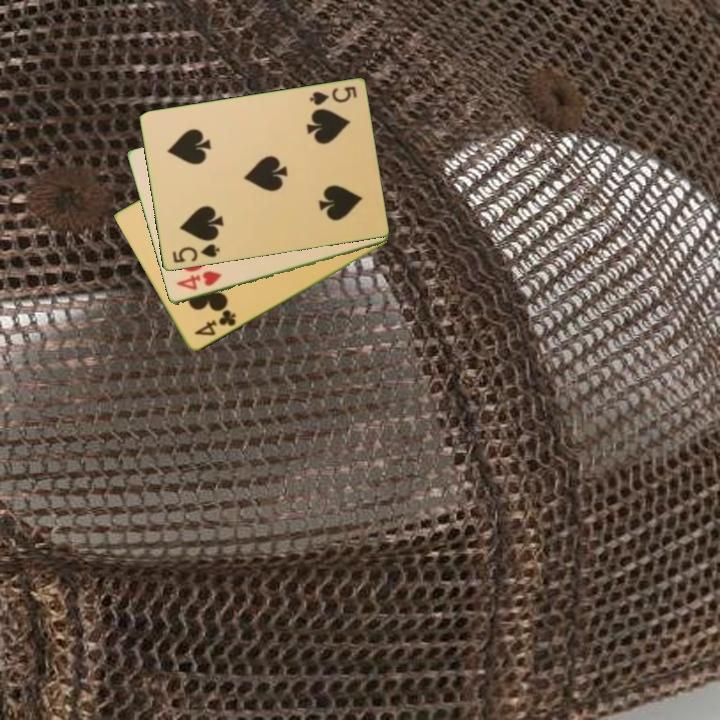4c: (191, 306, 239, 339)
4h: (172, 268, 224, 293)
5s: (306, 83, 359, 109), (169, 241, 222, 266)
